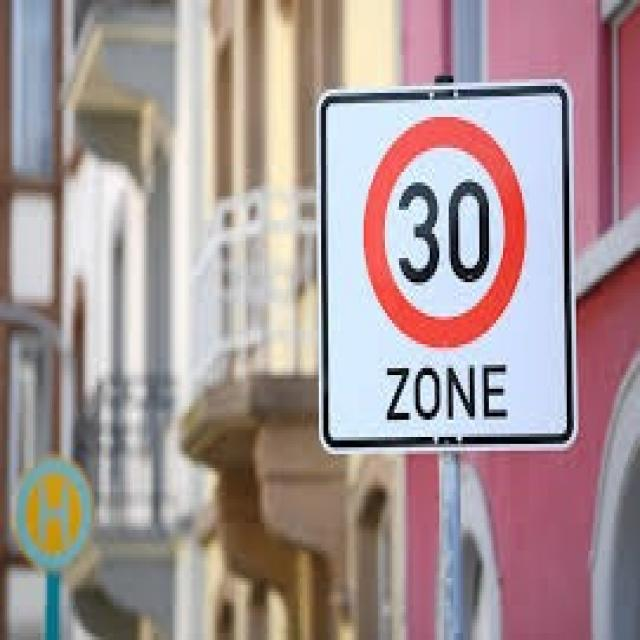speed_limit_30: (360, 112, 530, 351)
